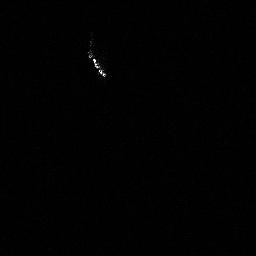ship: (92, 58, 107, 78)
